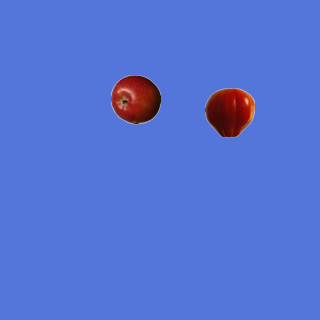Apple Braeburn: (110, 74, 160, 124)
Tomato 1: (204, 87, 254, 137)
